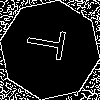T: (25, 25, 75, 63)
